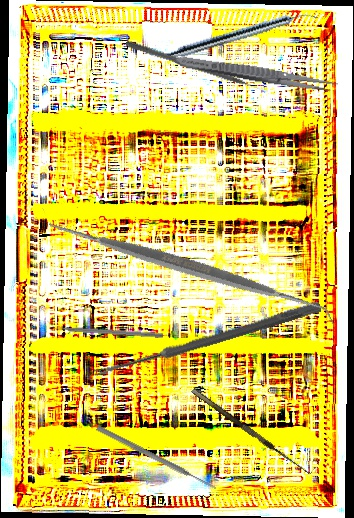Chopper: (46, 318, 164, 339)
Dressing Forceps: (173, 52, 339, 95)
Handpiece: (165, 5, 318, 65)
Hook Surgical: (191, 381, 316, 478)
Pusher: (124, 39, 270, 97), (95, 424, 218, 492)
Spatula Surgical: (42, 121, 335, 414)
Surgical Spoon: (93, 299, 322, 381)
